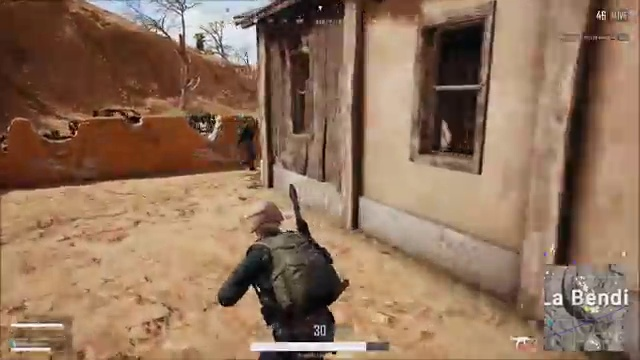Player: (219, 183, 372, 327)
